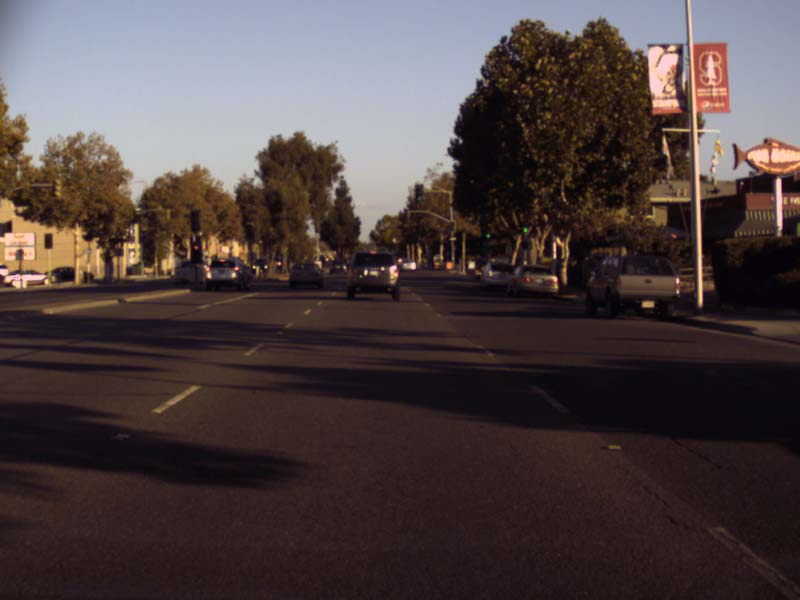Green: (483, 221, 491, 239), (521, 217, 528, 233), (416, 185, 421, 201)
Red: (190, 242, 200, 261)
